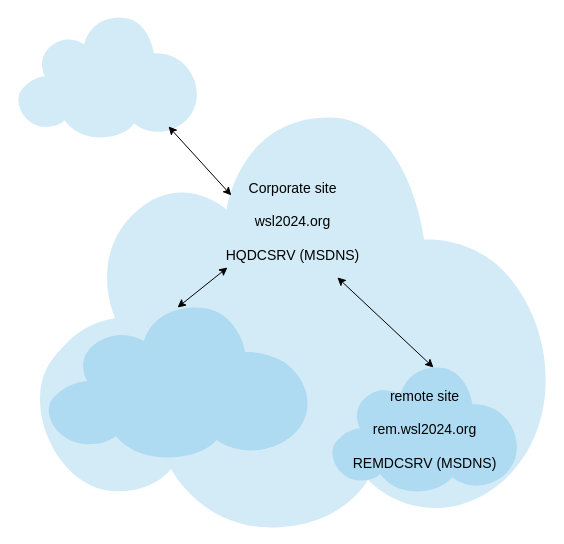
Some shapes in this 564 by 544 pixel diagram are drawn without their labels. The box of each missing label's shape, as (x1, y1, x2, y2) in pixels:
HQ site hq.wsl2024.org HQDCSRV (MSDNS): (47, 307, 308, 457)
internet worldskills.org DNSSRV (bind): (17, 17, 197, 137)
